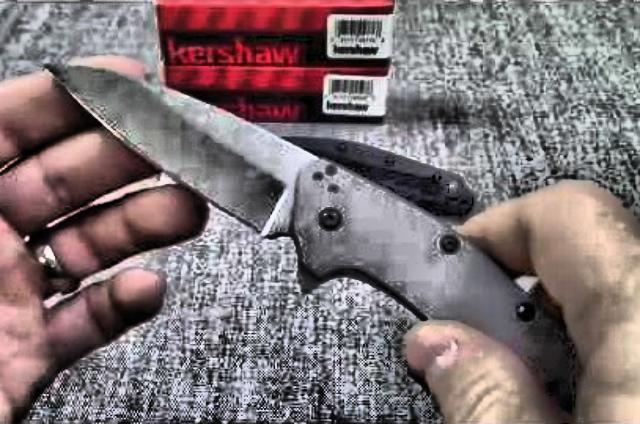knife: (26, 37, 594, 423)
